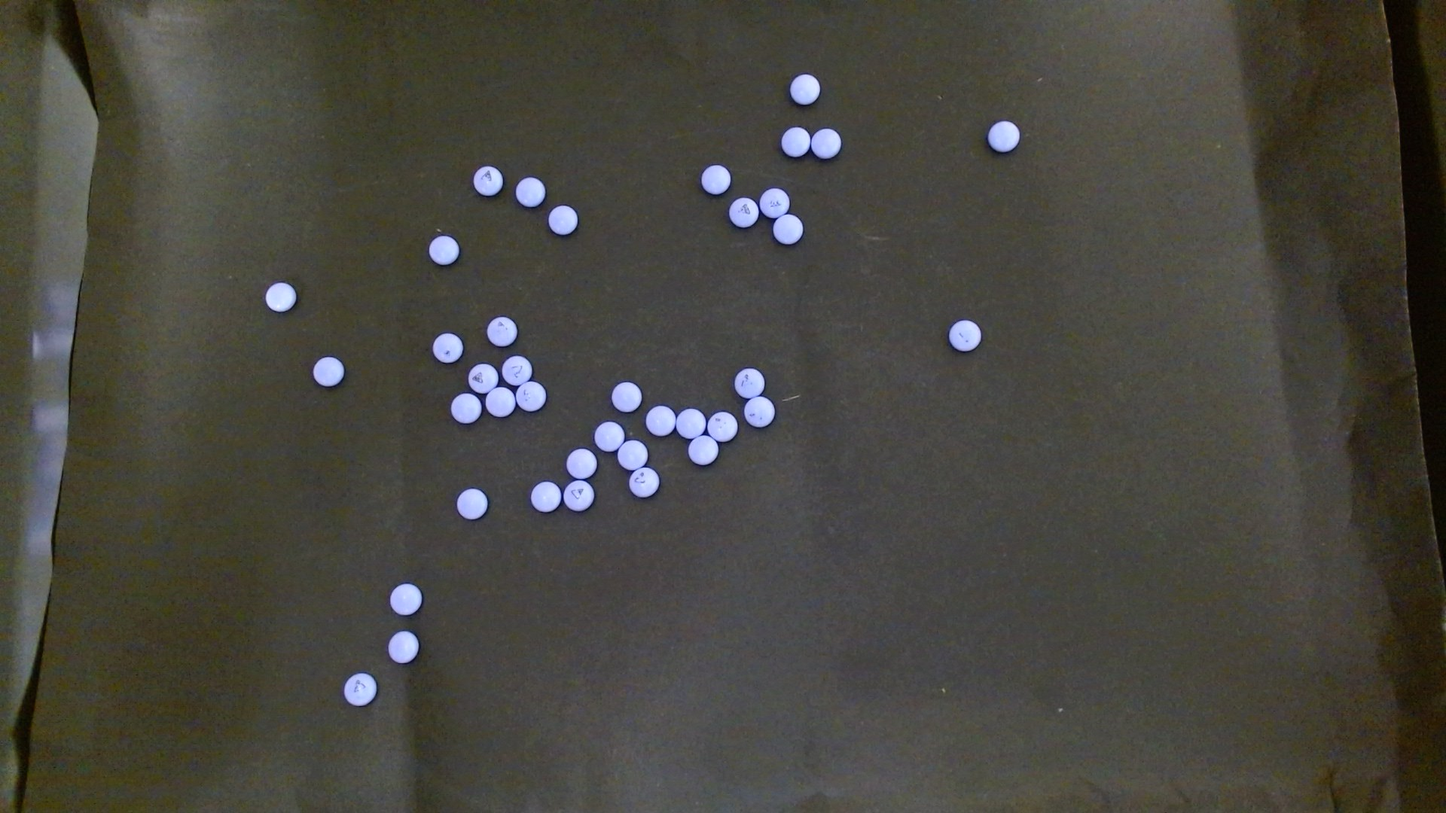Circle: (343, 671, 376, 705), (389, 582, 422, 616), (387, 630, 419, 665), (455, 487, 488, 520), (947, 319, 981, 351), (987, 120, 1020, 151), (563, 479, 594, 511), (789, 72, 820, 104), (530, 480, 560, 513), (516, 380, 547, 411), (628, 466, 659, 497), (700, 163, 731, 194), (743, 396, 773, 428), (450, 392, 480, 424), (548, 204, 578, 236), (728, 196, 758, 227), (759, 187, 789, 218), (467, 363, 497, 394), (734, 367, 764, 398), (432, 332, 462, 363), (707, 410, 737, 441), (617, 439, 647, 470), (688, 435, 718, 466), (515, 176, 545, 207), (312, 356, 343, 386), (594, 420, 624, 451), (645, 405, 675, 436), (429, 234, 459, 265), (676, 407, 705, 439), (502, 355, 532, 385), (487, 316, 517, 346), (566, 448, 596, 478), (265, 282, 295, 312), (473, 165, 502, 196), (811, 127, 840, 158), (612, 381, 641, 412), (780, 126, 809, 157), (773, 214, 802, 244), (485, 386, 514, 416)
